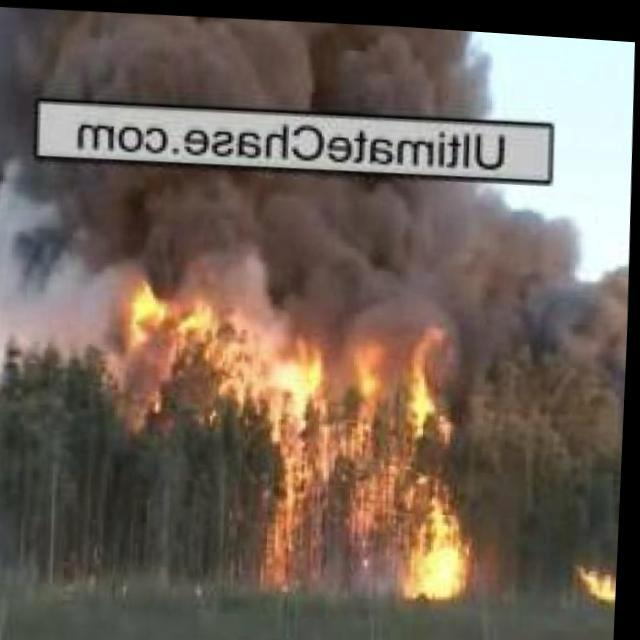fire: (276, 294, 484, 596), (112, 252, 235, 400), (578, 548, 622, 600)
